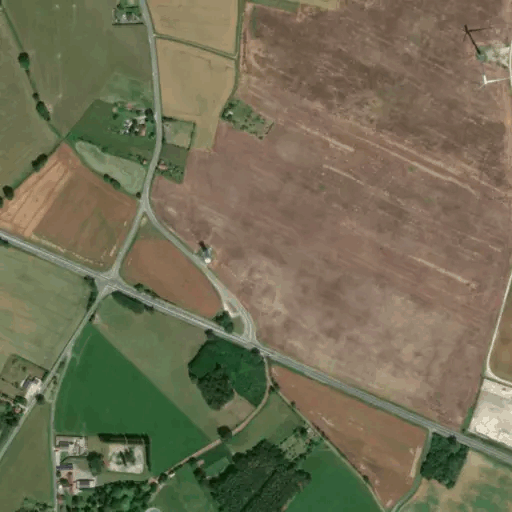wt: (459, 22, 512, 96)
